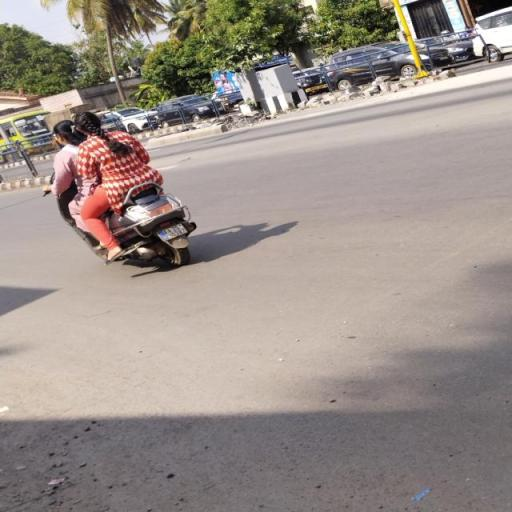bike: (34, 108, 204, 274)
numberplate: (152, 212, 195, 244)
withouthelmet: (76, 112, 98, 134), (54, 122, 74, 142)
